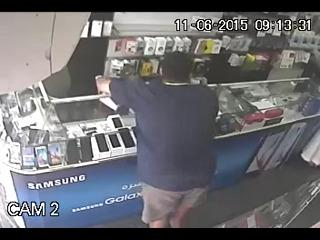Normal: (143, 62, 143, 62)
shoplifting: (95, 52, 224, 227)
